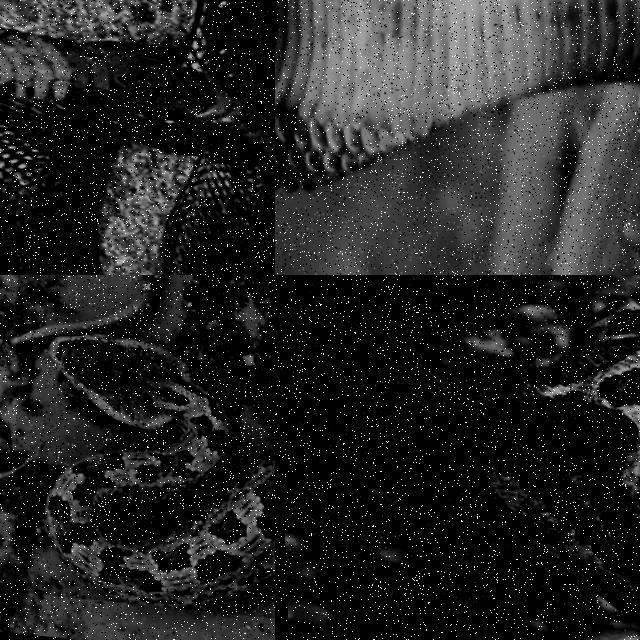Naja siamensis: (0, 0, 274, 274)
Ophiophagus hannah: (275, 0, 639, 274)
Ovophis monticola: (17, 275, 274, 605)
Python bivittatus: (469, 293, 639, 621)
snake: (275, 0, 639, 274), (17, 275, 274, 605), (0, 0, 274, 274), (469, 293, 639, 621)
